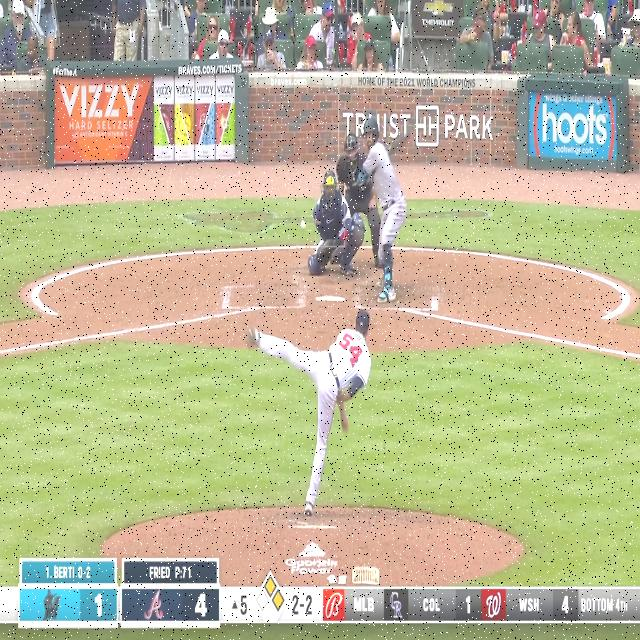baseball: (300, 220, 306, 230)
